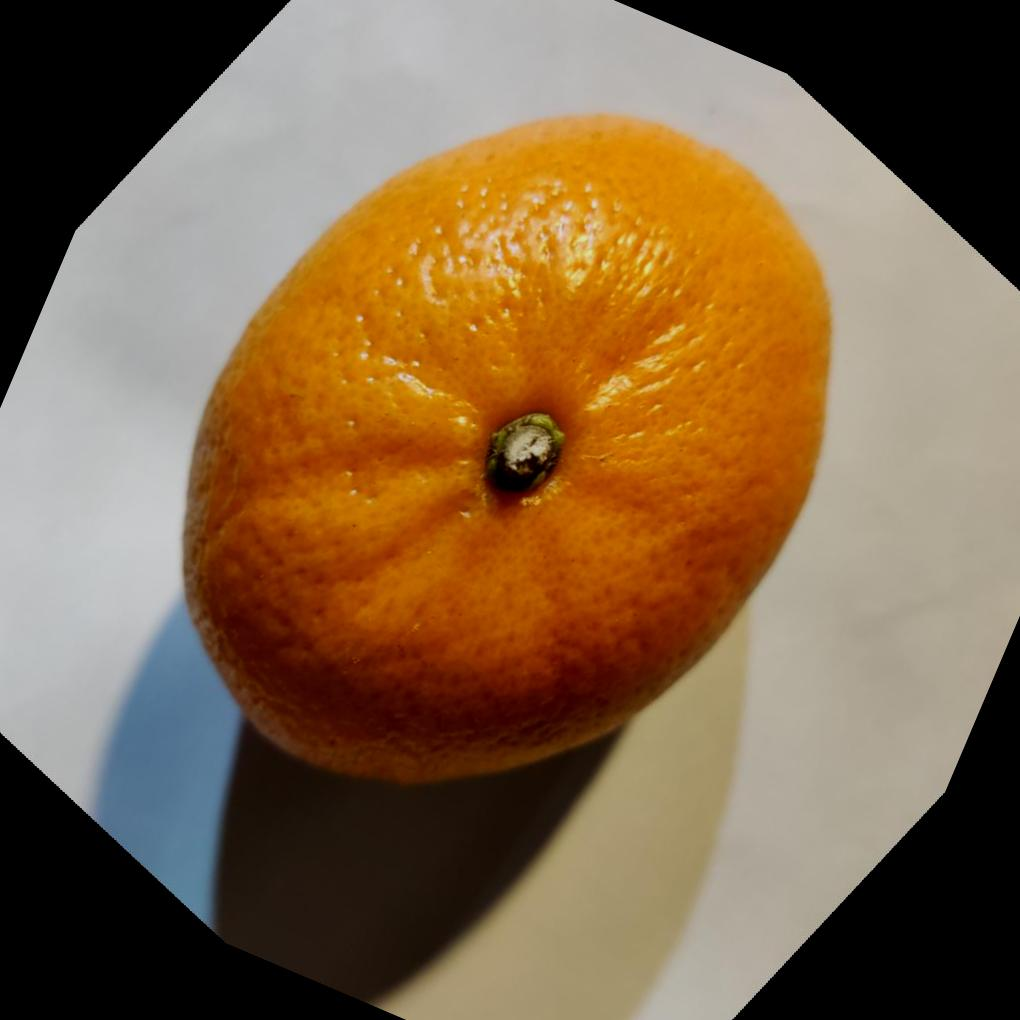FreshGuava: (177, 113, 833, 794)
